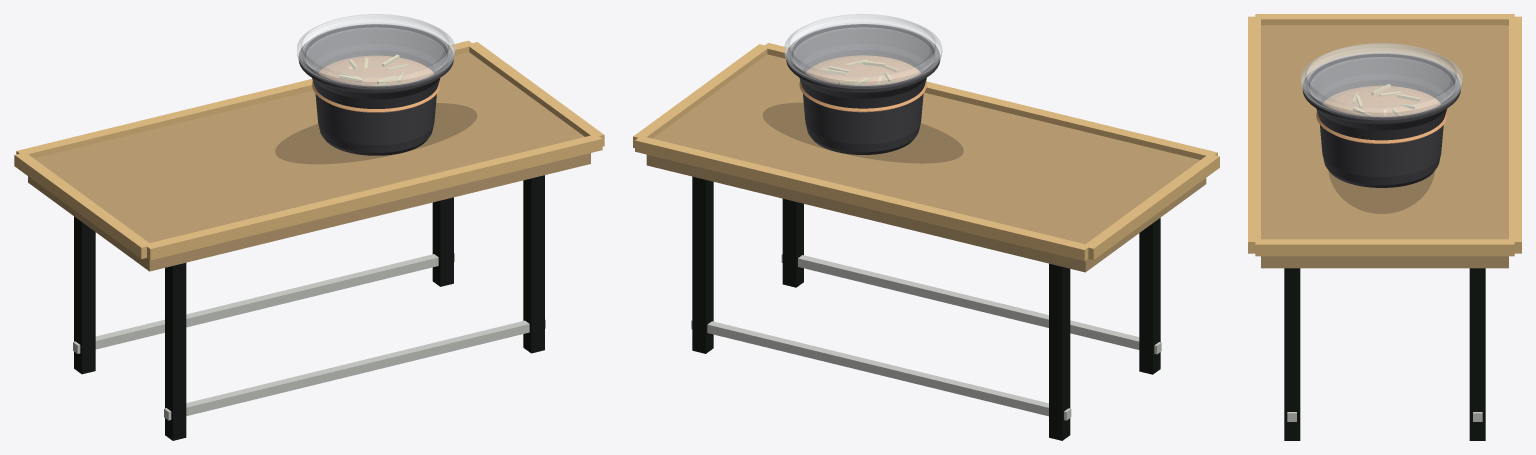
The model's file is table-container.glb.
3 renders of one model, left to right at view 1: azimuth 30°, elevation 25°; view 2: azimuth 150°, elevation 25°; view 3: azimuth 270°, elevation 25°, orthographic. The views are drawn at different scales.
Parts seen in each view (by area): view 1: Pickup_Table_Top, Container_Base, Container_Lid, Pickup_Table_Front_Edge, Pickup_Table_Foot_Rail_Front, Pickup_Table_Foot_Rail_Back, Pickup_Table_Back_Edge, Pickup_Table_Leg_-1.32_0.58, Pickup_Table_Leg_1.32_0.58, Soft_Container_Table_Shadow, Pickup_Table_Leg_-1.32_-0.58, Pickup_Table_Left_Edge (+4 smaller); view 2: Pickup_Table_Top, Container_Base, Container_Lid, Pickup_Table_Back_Edge, Pickup_Table_Foot_Rail_Back, Pickup_Table_Foot_Rail_Front, Pickup_Table_Front_Edge, Pickup_Table_Leg_1.32_-0.58, Pickup_Table_Leg_-1.32_-0.58, Soft_Container_Table_Shadow, Pickup_Table_Leg_-1.32_0.58, Pickup_Table_Left_Edge (+4 smaller); view 3: Pickup_Table_Top, Container_Base, Container_Lid, Pickup_Table_Right_Edge, Pickup_Table_Front_Edge, Pickup_Table_Back_Edge, Pickup_Table_Left_Edge, Pickup_Table_Leg_1.32_-0.58, Pickup_Table_Leg_1.32_0.58, Food_Fill, Soft_Container_Table_Shadow, Lid_Snap_Ring.
Part boxes in pixels (box(x1,y1,x2,y2)): Pickup_Table_Top: box(28, 52, 590, 271); Container_Base: box(298, 24, 453, 155); Container_Lid: box(297, 14, 455, 87); Pickup_Table_Front_Edge: box(144, 134, 602, 260); Pickup_Table_Foot_Rail_Front: box(164, 319, 545, 420); Pickup_Table_Foot_Rail_Back: box(73, 253, 454, 353); Pickup_Table_Back_Edge: box(16, 40, 474, 158); Pickup_Table_Leg_-1.32_0.58: box(165, 263, 186, 440); Pickup_Table_Leg_1.32_0.58: box(523, 175, 544, 353); Soft_Container_Table_Shadow: box(275, 103, 476, 163); Pickup_Table_Leg_-1.32_-0.58: box(74, 216, 95, 374); Pickup_Table_Left_Edge: box(14, 152, 149, 258); Pickup_Table_Top: box(646, 54, 1206, 272); Container_Base: box(786, 24, 940, 154); Container_Lid: box(784, 14, 942, 86); Pickup_Table_Back_Edge: box(635, 136, 1089, 261); Pickup_Table_Foot_Rail_Back: box(691, 320, 1071, 420); Pickup_Table_Foot_Rail_Front: box(781, 254, 1161, 354); Pickup_Table_Front_Edge: box(762, 43, 1217, 159); Pickup_Table_Leg_1.32_-0.58: box(692, 176, 713, 353); Pickup_Table_Leg_-1.32_-0.58: box(1049, 263, 1070, 440); Soft_Container_Table_Shadow: box(763, 103, 963, 163); Pickup_Table_Leg_-1.32_0.58: box(1139, 218, 1160, 374); Pickup_Table_Left_Edge: box(1083, 154, 1219, 259); Pickup_Table_Top: box(1261, 25, 1508, 268); Container_Base: box(1302, 54, 1460, 187); Container_Lid: box(1300, 43, 1462, 117); Pickup_Table_Right_Edge: box(1255, 239, 1514, 256); Pickup_Table_Front_Edge: box(1248, 16, 1260, 253); Pickup_Table_Back_Edge: box(1509, 16, 1521, 253); Pickup_Table_Left_Edge: box(1255, 14, 1514, 25); Pickup_Table_Leg_1.32_-0.58: box(1469, 268, 1485, 440); Pickup_Table_Leg_1.32_0.58: box(1284, 268, 1300, 440); Food_Fill: box(1316, 86, 1447, 143); Soft_Container_Table_Shadow: box(1328, 171, 1434, 213); Lid_Snap_Ring: box(1306, 52, 1456, 116).
Bounding box in the file's own units: 3.41 × 2.11 × 1.71.
